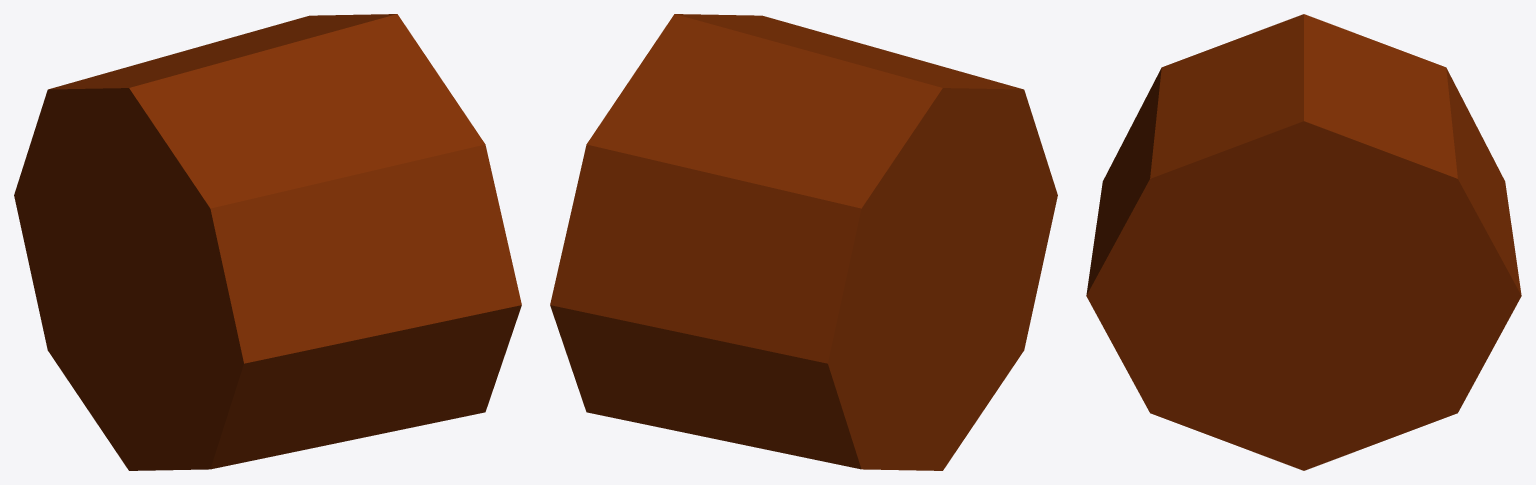
The model's file is carrot_2.obj.
The picture shows the model from 3 angles, left to right: view 1: azimuth 30°, elevation 25°; view 2: azimuth 150°, elevation 25°; view 3: azimuth 270°, elevation 25°; orthographic projection. The views are drawn at different scales.
Size of the model in its own units: 1.61 by 2.29 by 2.59.
